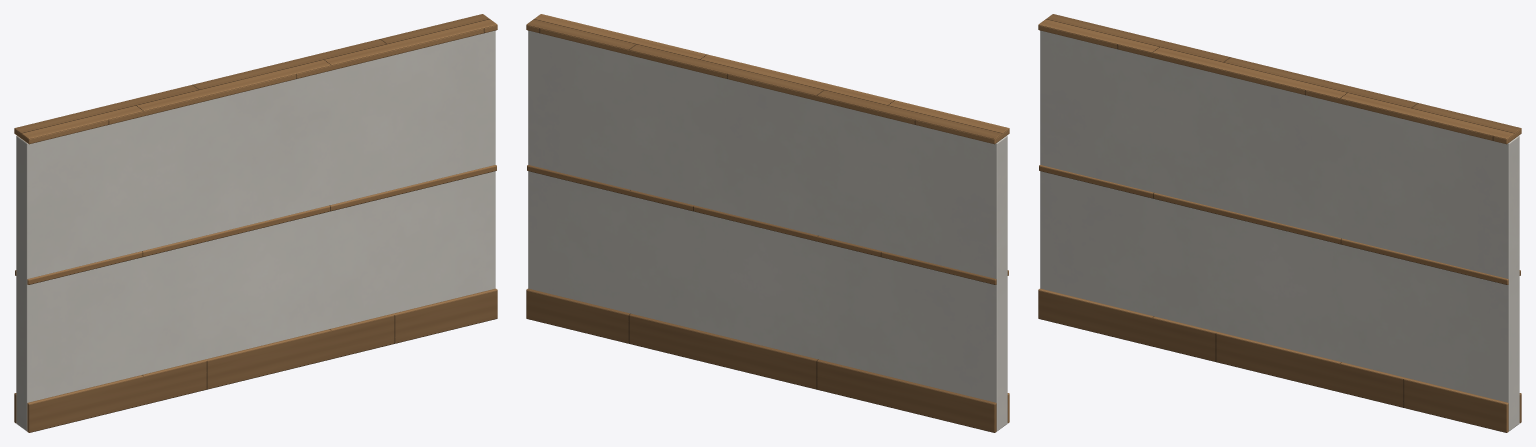
File: wall.fbx
The picture shows the model from 3 angles, left to right: view 1: azimuth 30°, elevation 25°; view 2: azimuth 150°, elevation 25°; view 3: azimuth 330°, elevation 25°; orthographic projection.
Parts seen in each view (by area): view 1: 벽; view 2: 벽; view 3: 벽.
Boxes of the visible parts, x1,y1,x2,y2 form: 벽: (14, 14, 497, 432); 벽: (526, 14, 1009, 432); 벽: (1038, 14, 1521, 432).
Size of the model in its own units: 10000 by 6000 by 560.
Materials: 2 (2 with a texture image).
